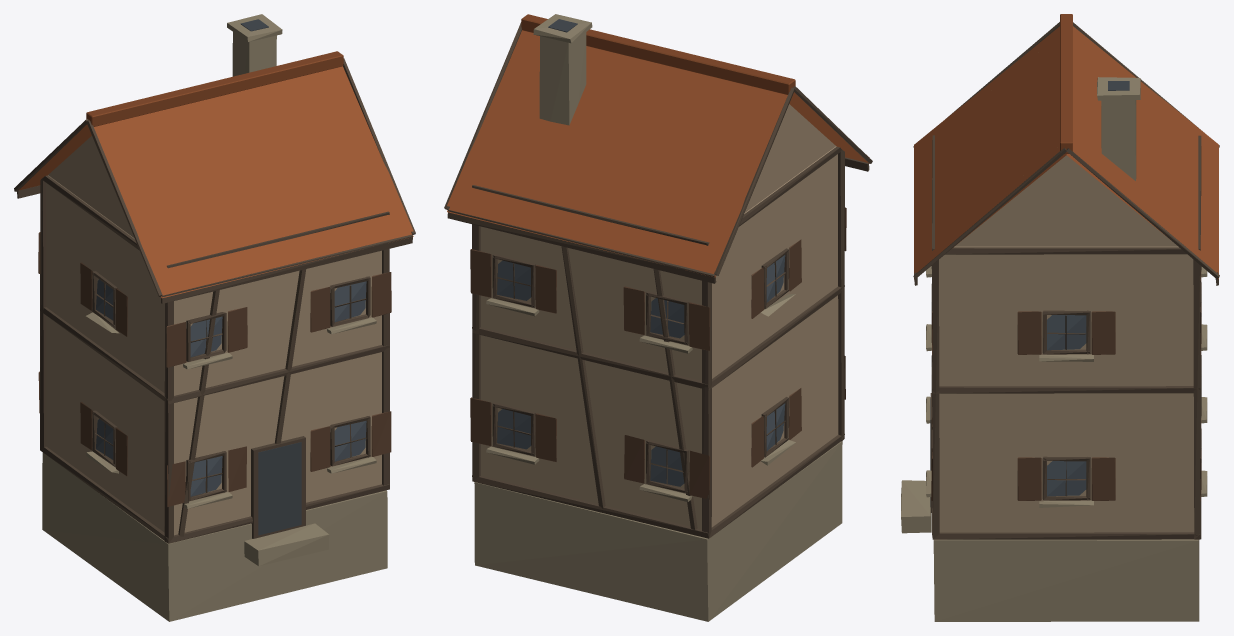
File: house-tall-lod1.glb
3 renders of one model, left to right at view 1: azimuth 30°, elevation 25°; view 2: azimuth 150°, elevation 25°; view 3: azimuth 270°, elevation 25°, orthographic. The views are drawn at different scales.
Size of the model in its own units: 7.14 by 13 by 7.32.
